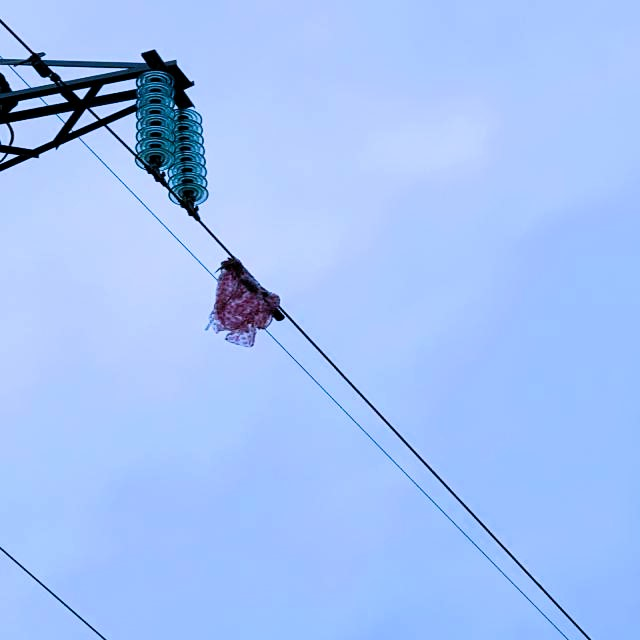wire foreign body: (201, 250, 296, 354)
